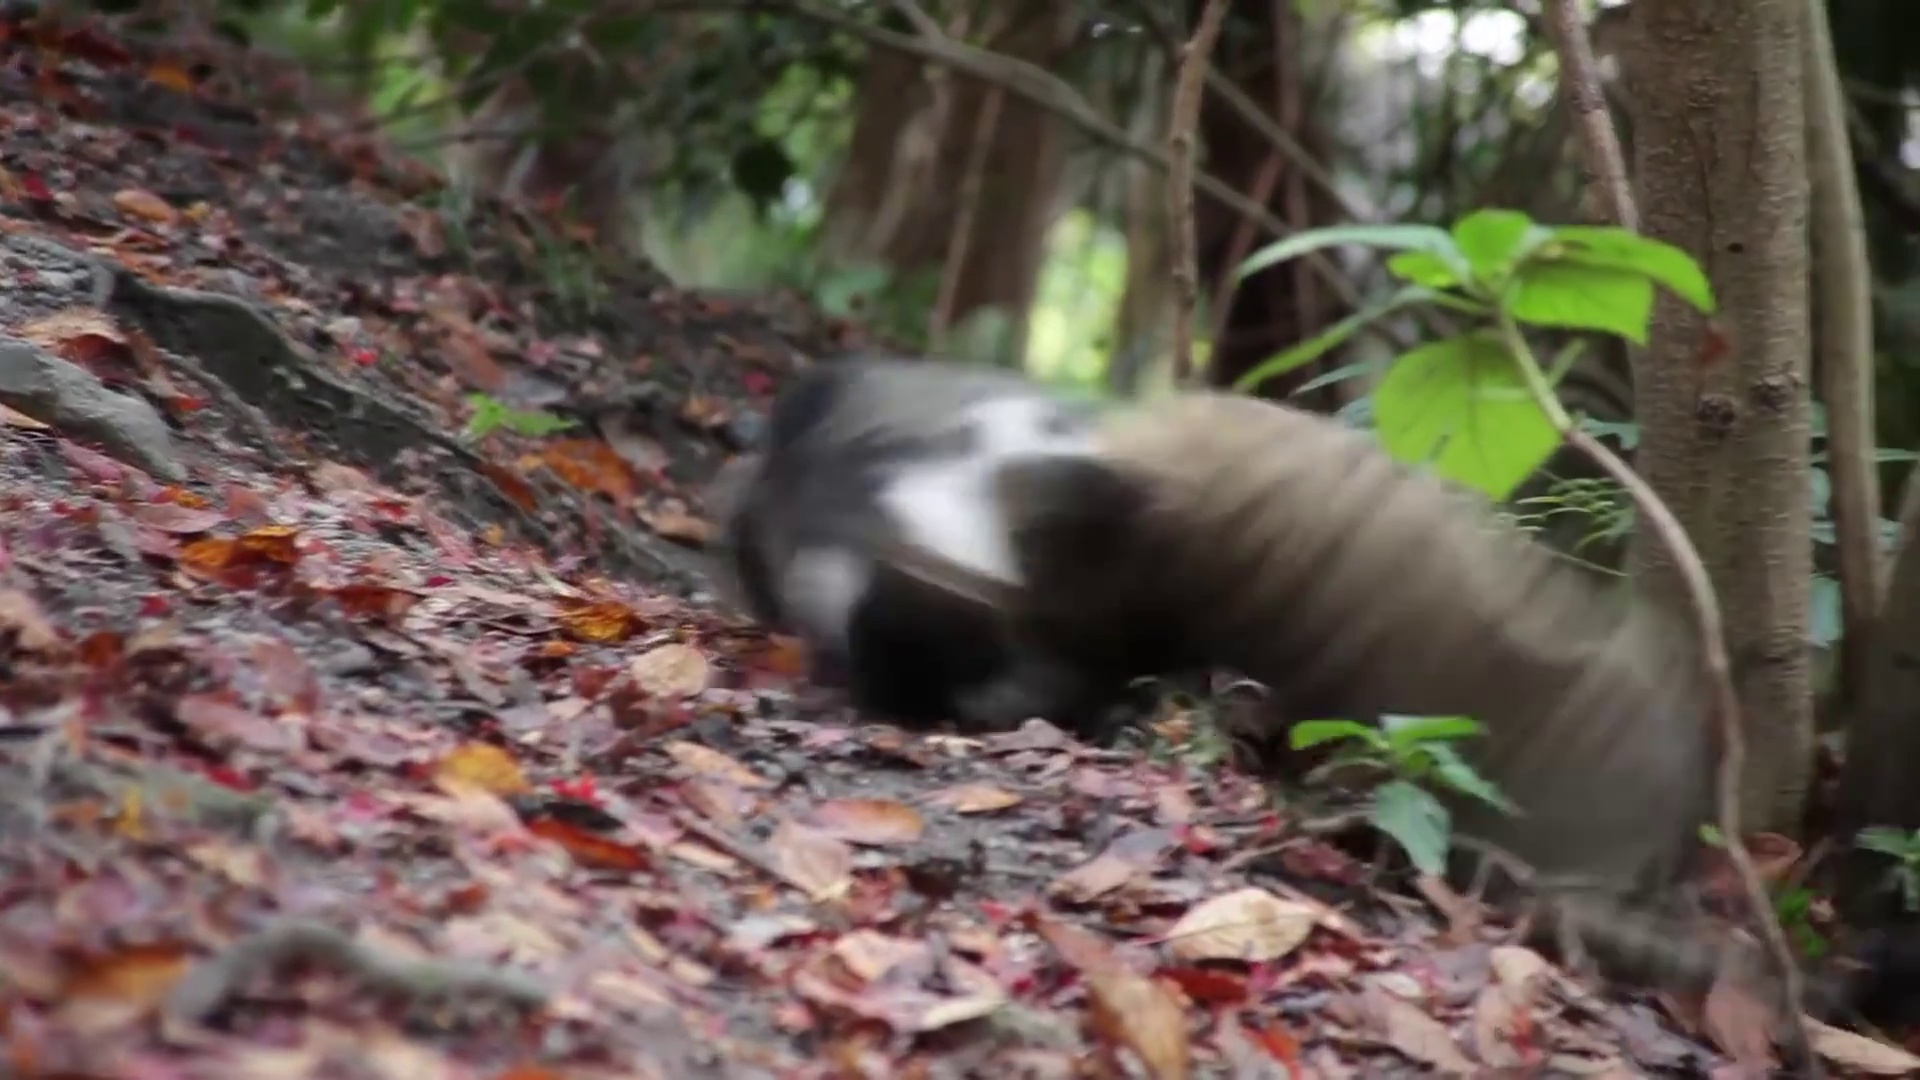black-white: (744, 363, 1162, 732)
pure black: (1095, 393, 1687, 890)
